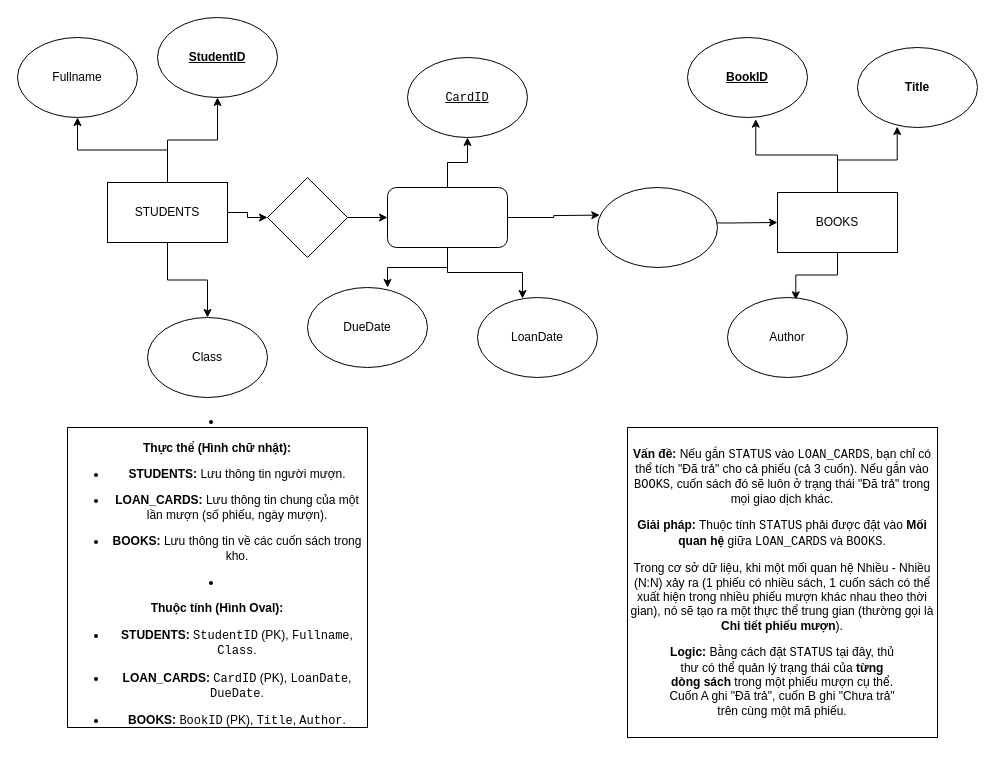
Image size: 995x758. Some labels were removed from this diagram. The box of each missing label's shape, as (x1, y1, x2, y2) in pixels:
1:N: (266, 176, 348, 258)
LOAN_CARDS: (386, 186, 508, 248)
STATUS: (596, 186, 718, 268)
